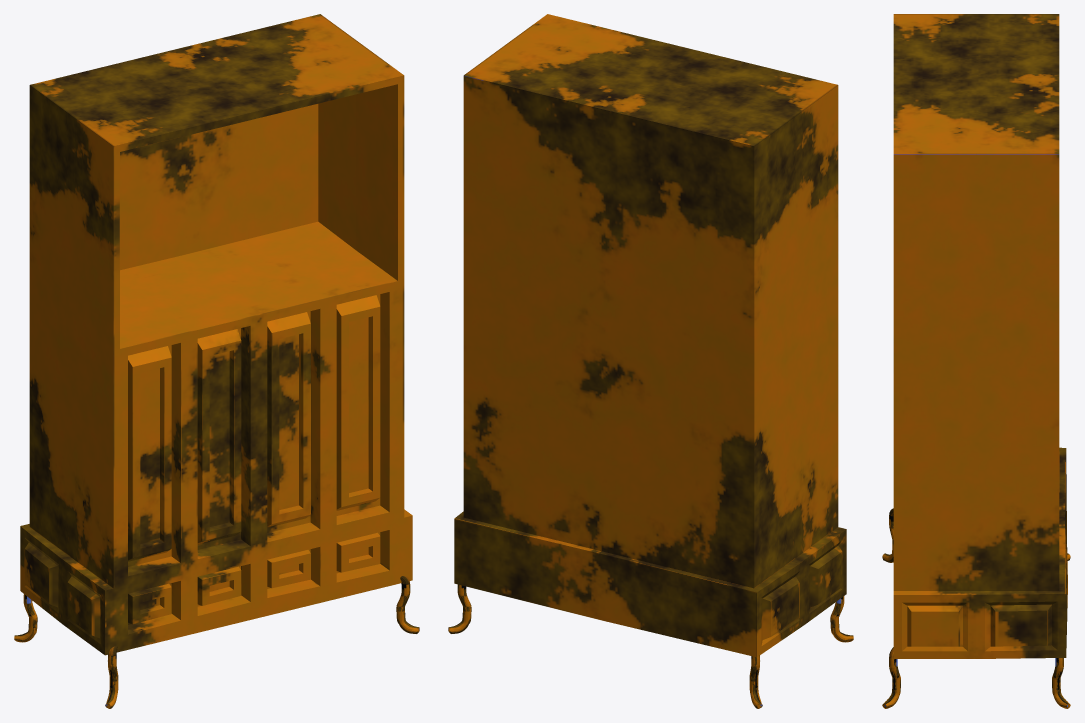
The model's file is ornate cabinet.glb.
3 renders of one model, left to right at view 1: azimuth 30°, elevation 25°; view 2: azimuth 150°, elevation 25°; view 3: azimuth 270°, elevation 25°, orthographic.
Visible parts, largest first — view 1: ornate_cabinet.001; view 2: ornate_cabinet.001; view 3: ornate_cabinet.001.
Part boxes in pixels (<box>): ornate_cabinet.001: <box>14,14,419,708</box>; ornate_cabinet.001: <box>448,14,853,708</box>; ornate_cabinet.001: <box>882,14,1070,708</box>.
Bounding box in the file's own units: 0.9963 × 1.68 × 0.5187.
1 material, 1 textured.
